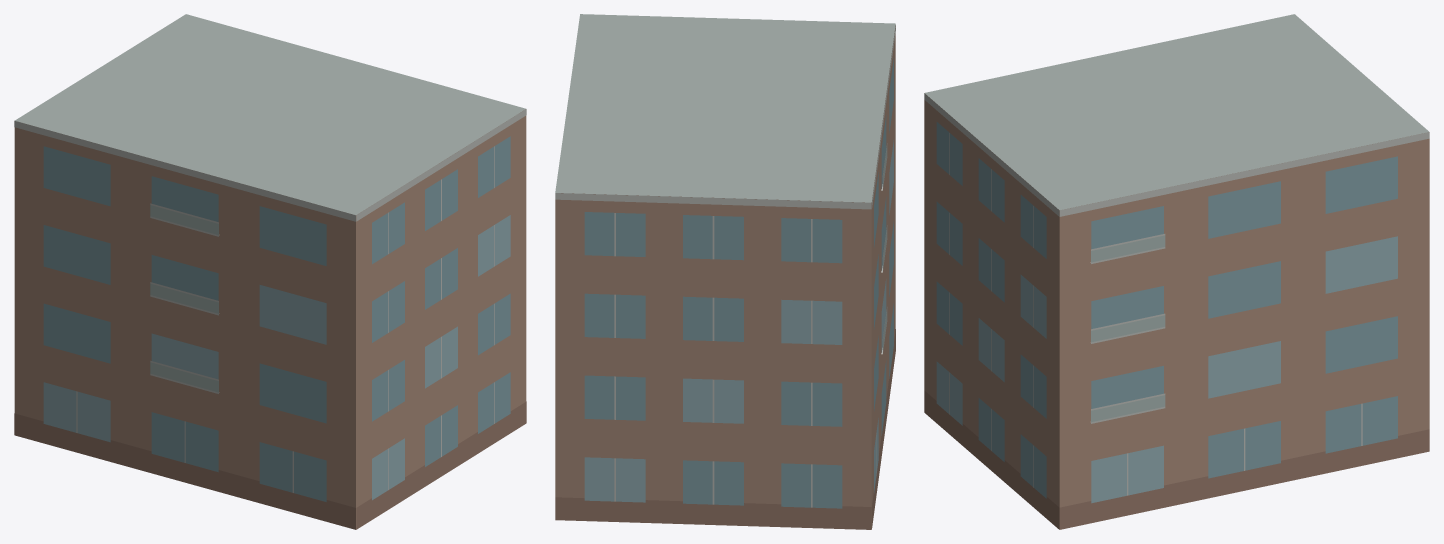
File: survey-upis-32828252.glb
The picture shows the model from 3 angles, left to right: view 1: azimuth 30°, elevation 25°; view 2: azimuth 150°, elevation 25°; view 3: azimuth 270°, elevation 25°; orthographic projection. The views are drawn at different scales.
Visible parts, largest first — view 1: survey-upis-32828252.tmp; view 2: survey-upis-32828252.tmp; view 3: survey-upis-32828252.tmp.
Part boxes in pixels (x1,y1,x2,y2): survey-upis-32828252.tmp: (14, 14, 526, 529); survey-upis-32828252.tmp: (555, 14, 895, 529); survey-upis-32828252.tmp: (924, 14, 1429, 529).
Size of the model in its own units: 15.49 by 11.75 by 16.85.
